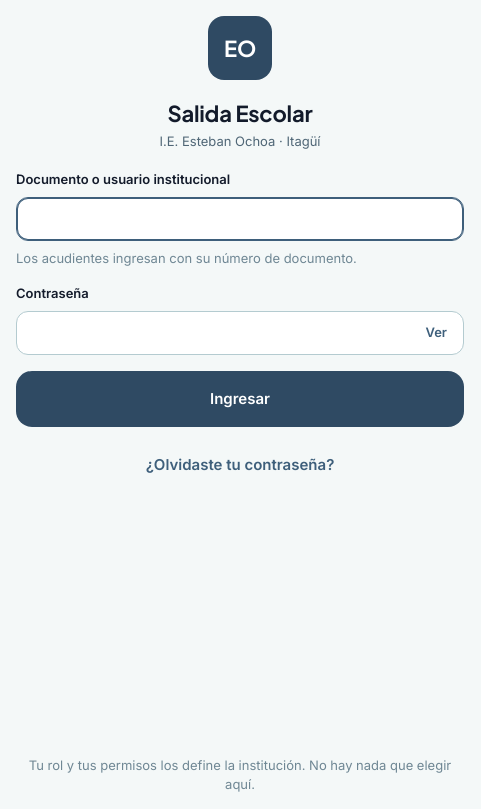
Test: inicio de sesión (HU07 / HU12) › muestra el mensaje genérico del backend y limpia la contraseña
Type "1000000002" into the field labelled "Documento o usuario institucional". click: (240, 219)
box: left=17, top=198, right=463, bottom=240
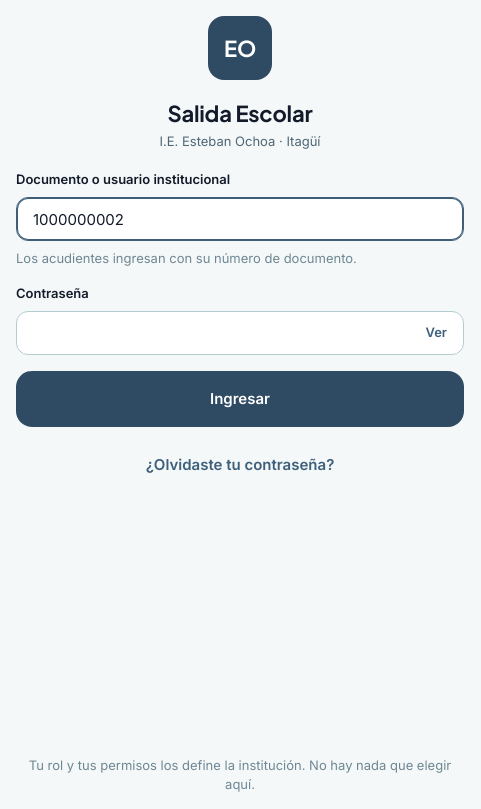
Type "mala-clave" into the password field labelled "Contraseña". click: (213, 333)
box: left=17, top=312, right=409, bottom=354
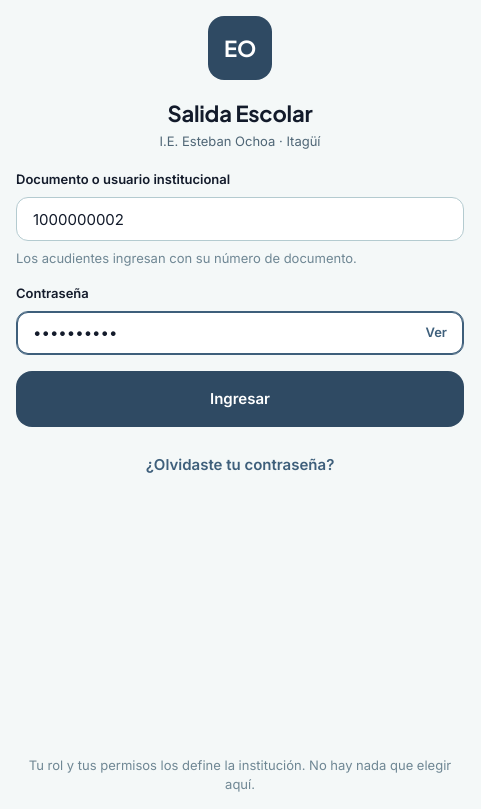
Click the button "Ingresar". click: (240, 399)
box: left=16, top=371, right=464, bottom=427
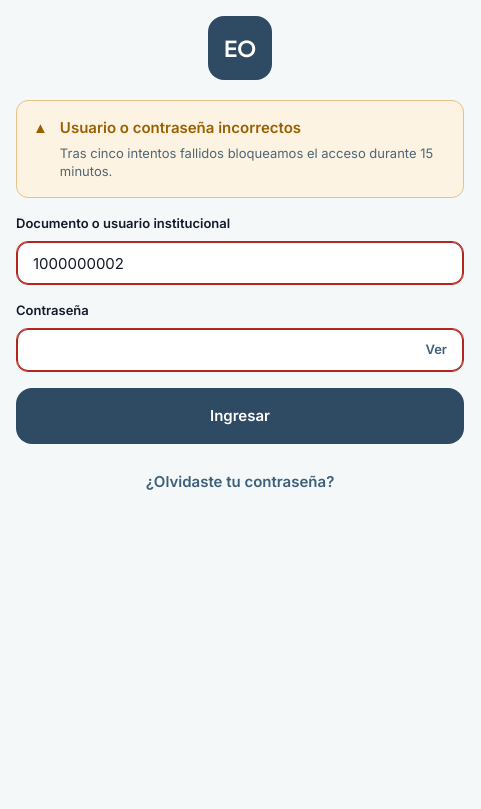
Now the message shows "Usuario o contraseña incorrectos", box left=60, top=118, right=301, bottom=137
Now the password field labelled "Contraseña" is empty, box left=17, top=329, right=409, bottom=371
